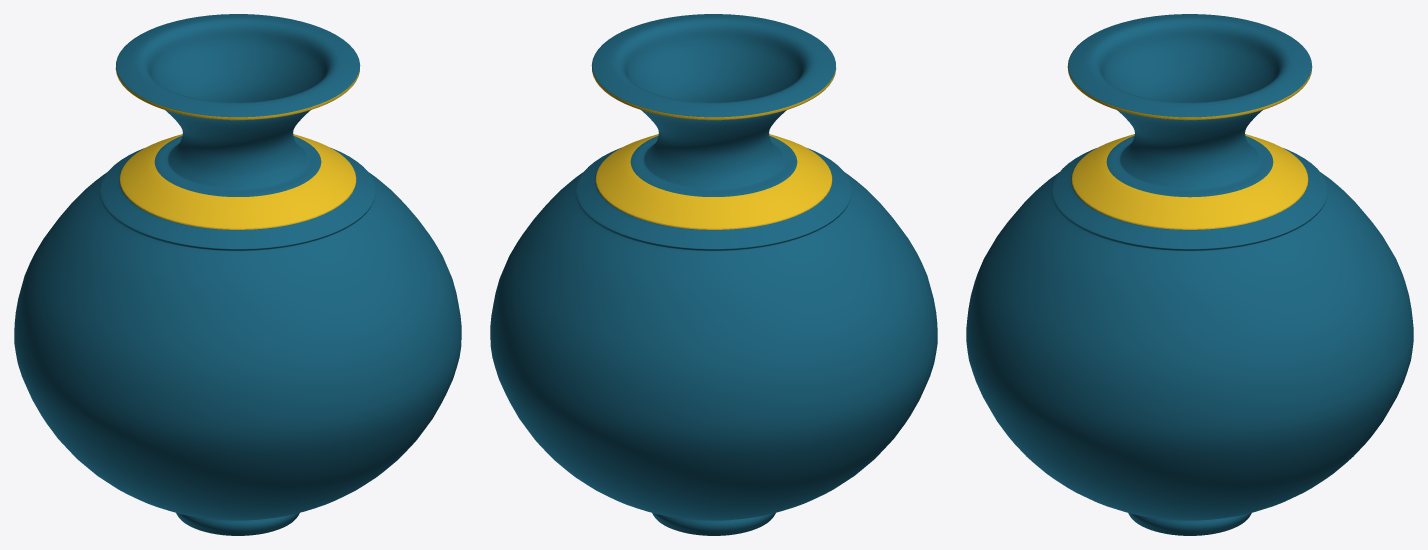
Rendered from vaso.fbx.
3 views of the same model, side by side, from view 1: azimuth 30°, elevation 25°; view 2: azimuth 150°, elevation 25°; view 3: azimuth 270°, elevation 25° (orthographic).
Parts seen in each view (by area): view 1: Circle; view 2: Circle; view 3: Circle.
Part boxes in pixels (bbox=[...]): Circle: bbox=[14, 14, 461, 535]; Circle: bbox=[490, 14, 937, 535]; Circle: bbox=[966, 14, 1413, 535].
Size of the model in its own units: 18.12 by 20.05 by 18.12.
